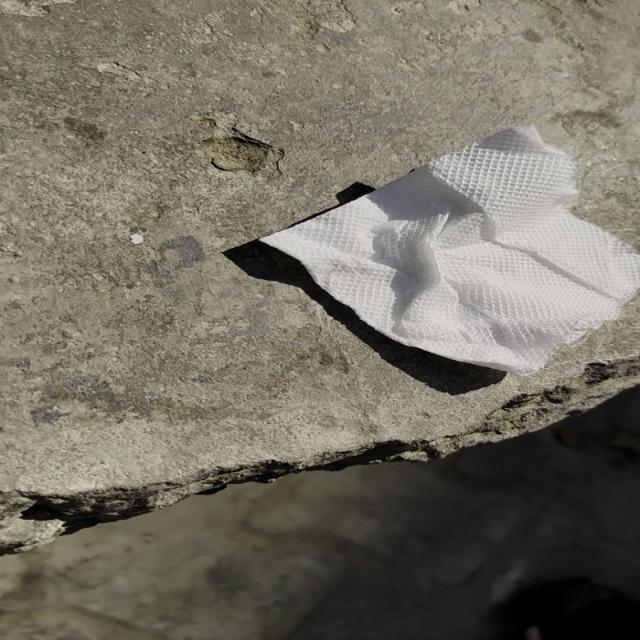tissue: (255, 120, 640, 380)
